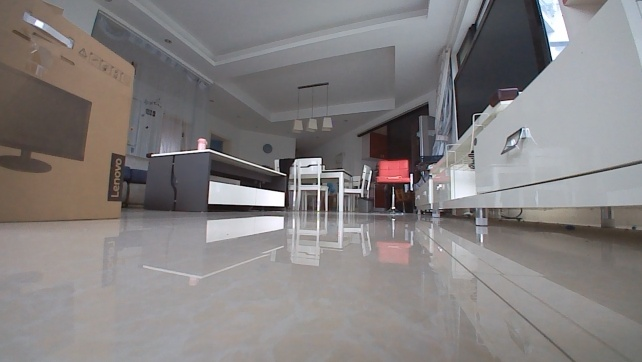TV_stand: (411, 0, 641, 228)
dining_table: (272, 153, 374, 214)
metal_chair_foot: (375, 205, 410, 216)
tea_table: (139, 145, 290, 215)
wire: (499, 208, 523, 222)
